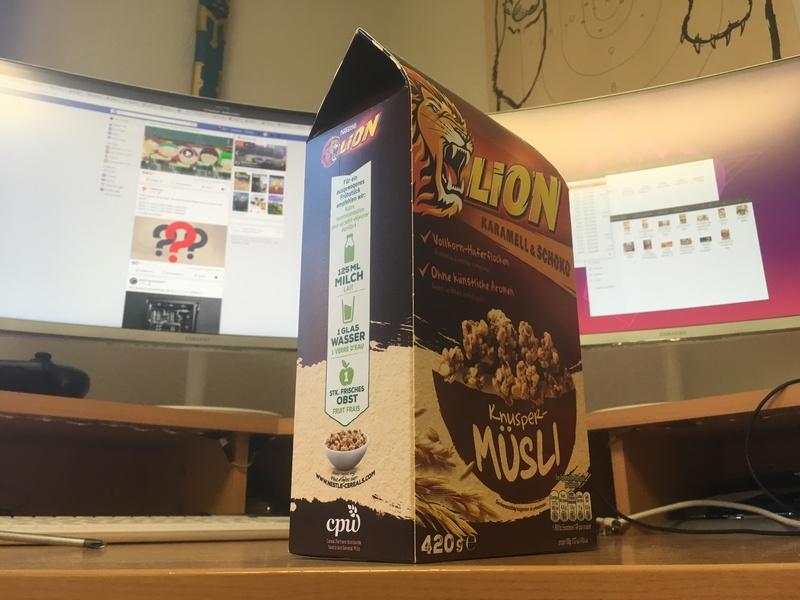cereals: (288, 29, 597, 563)
